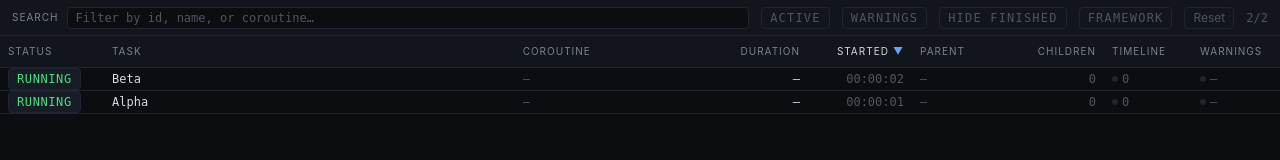
TaskTableContainer › filters by search text
Type "alpha" into the search field named "Filter tasks" at (408, 18), box [66,6,749,28]
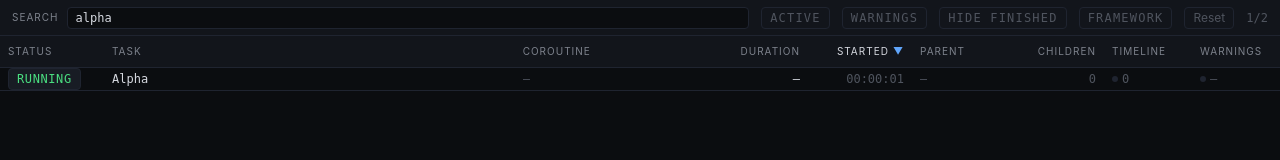
expect the text "Alpha" is shown: met, box [112,71,148,87]
expect the text "Beta" is gone: met
